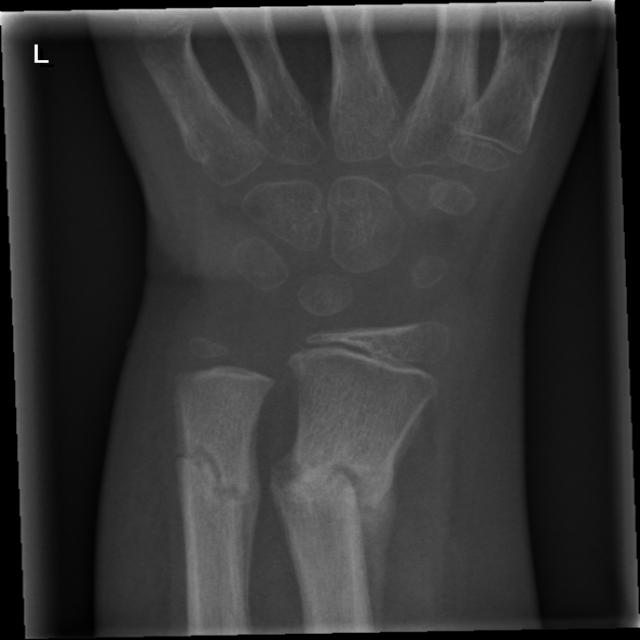radius fracture: (261, 388, 431, 612)
ulna fracture: (155, 389, 269, 578)
